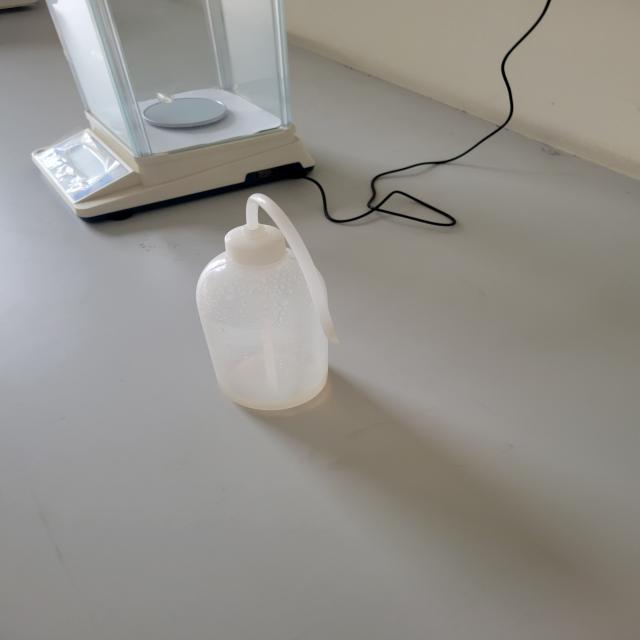Wash_Bottle: (170, 154, 389, 440)
